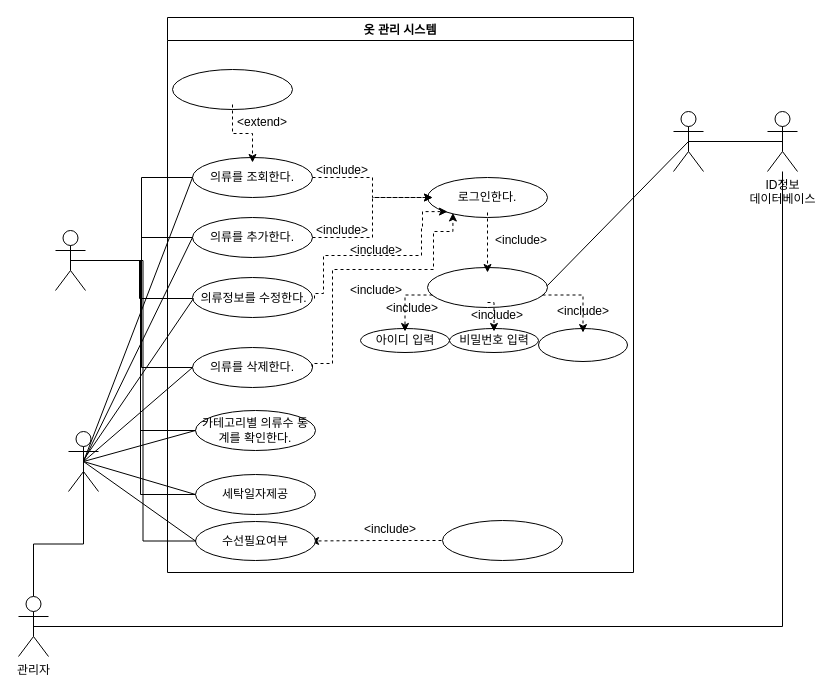
The diagram is 833 pixels wide and 695 high, and some of its shapes have lost their labels. Each missing label, with the centre of its shape:
"사용자" goes at pixel 70 260.
"수선기한여부" goes at pixel 502 540.
"신체사이즈 입력" goes at pixel 583 345.
"신체사이즈와 옷사이즈 비교" goes at pixel 232 89.
"의류 데이터베이스" goes at pixel 83 461.
"인증시스템" goes at pixel 688 141.
"회원가입한다." goes at pixel 487 287.
